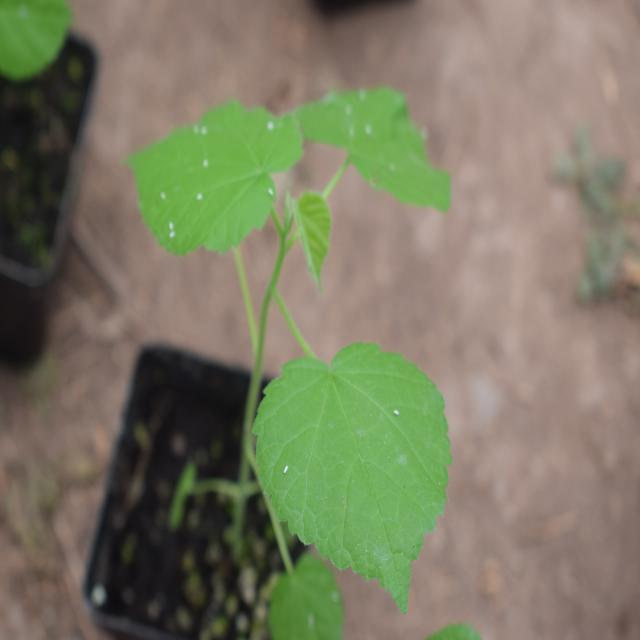abutilon theophrasti: (137, 81, 472, 574)
